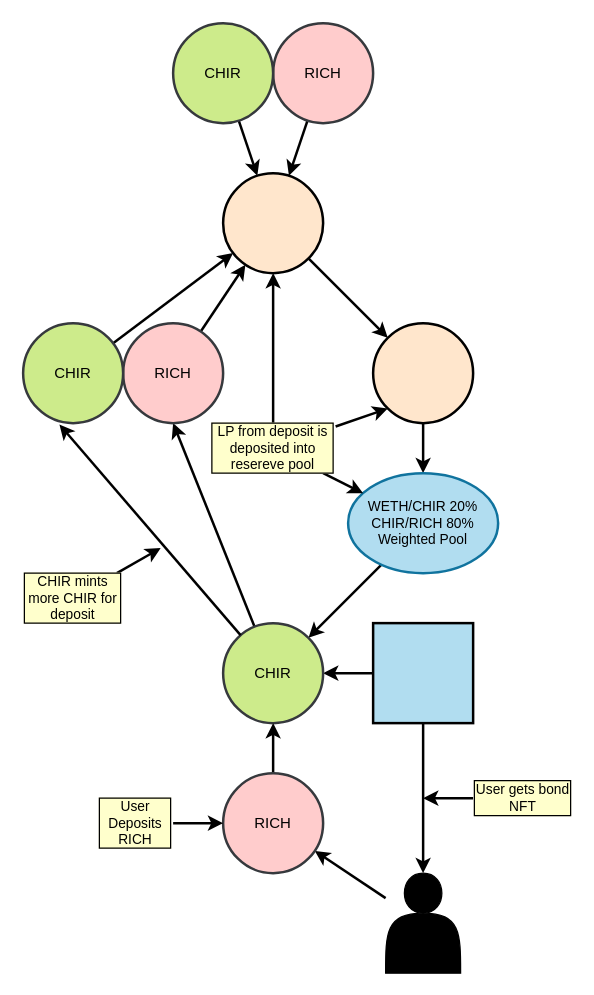
Image size: 594x995. Some labels were removed from this diagram. Each missing label, with the box of its shape:
CHIR Bond NFT: (371, 621, 474, 724)
CHIR/RICH: (221, 171, 324, 274)
CHIR/RICH Strategy Vault: (371, 321, 474, 424)
User: (384, 872, 461, 973)
